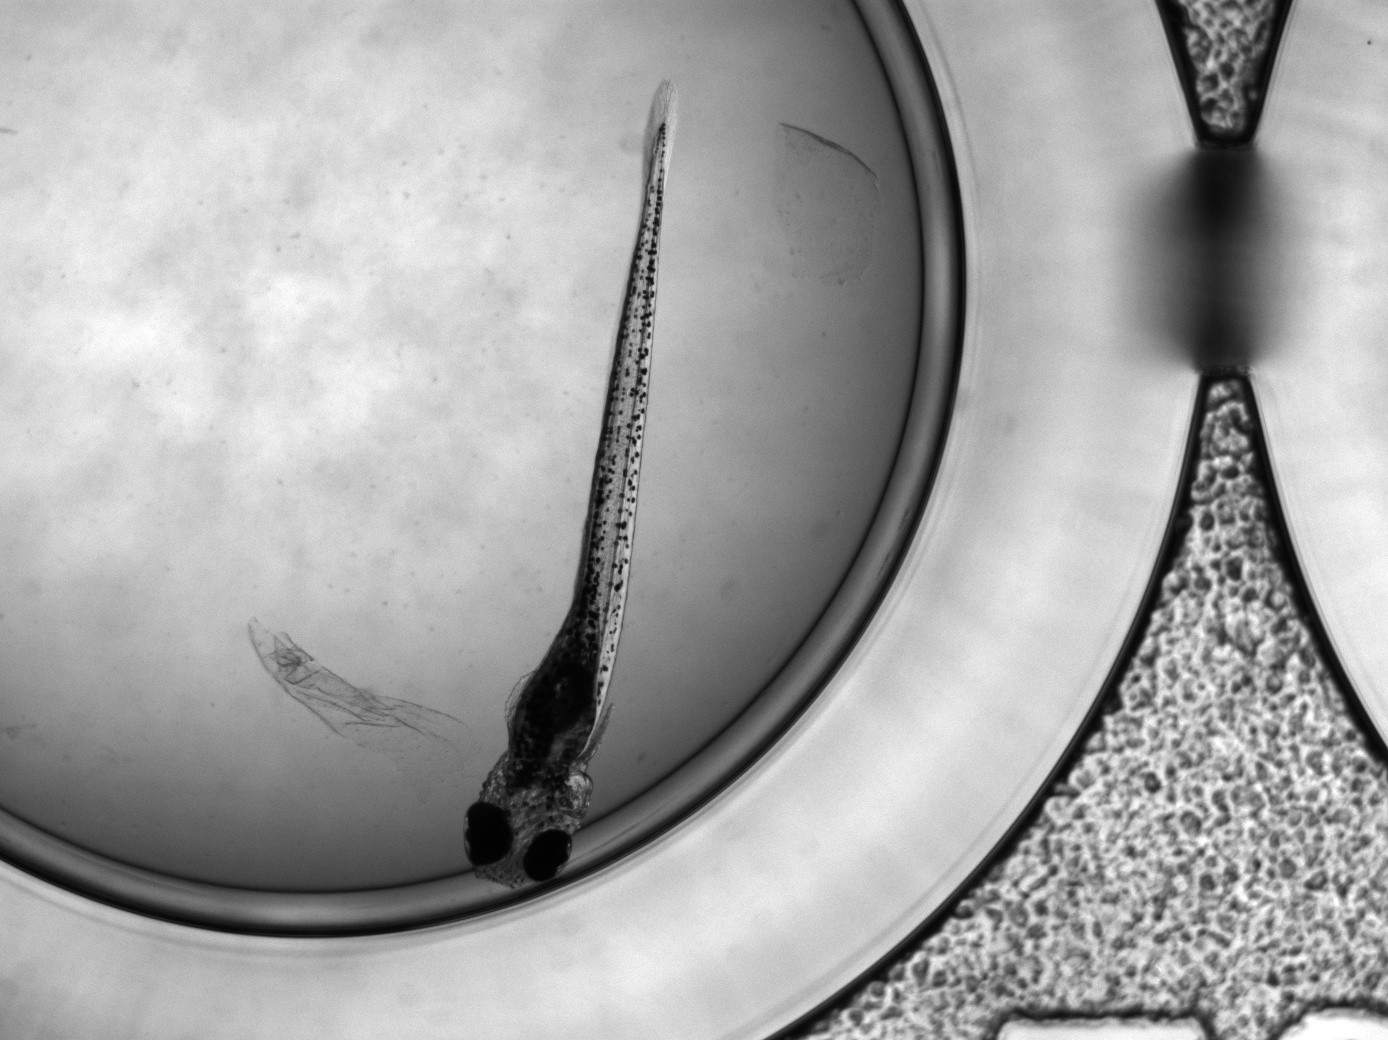debris: (248, 614, 475, 796), (771, 123, 882, 295)
embryo: (463, 121, 672, 887)
eye: (465, 801, 514, 866), (523, 828, 574, 882)
yolksac: (507, 592, 629, 760)
